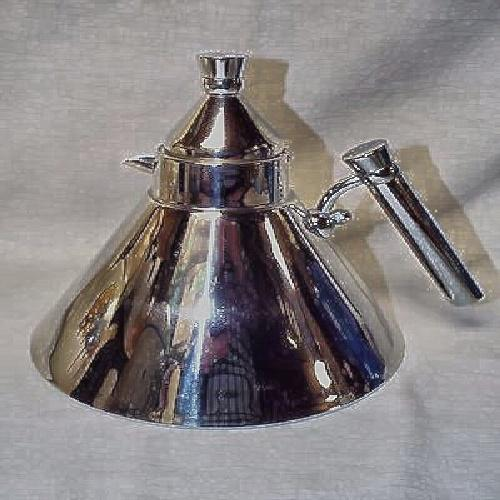kettle: (57, 43, 412, 426)
